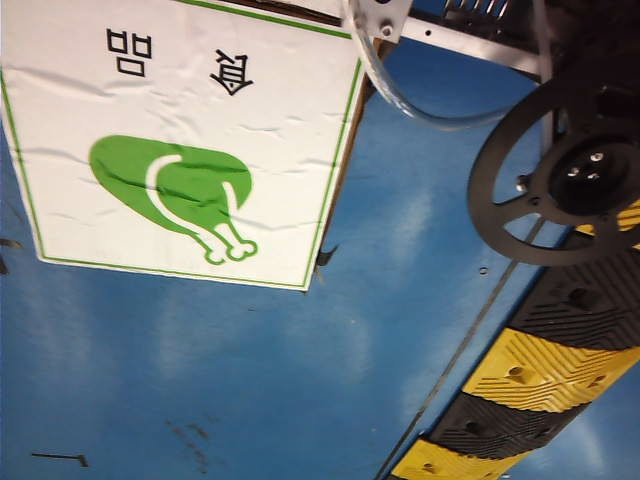Cube_food: (34, 0, 329, 267)
